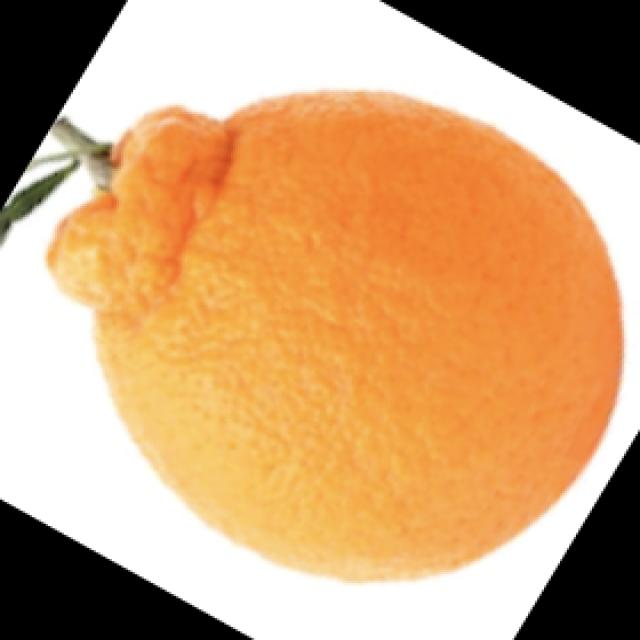orange: (60, 81, 620, 594)
